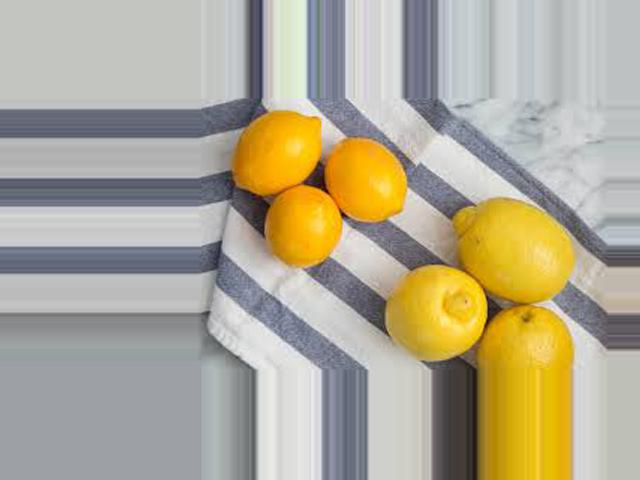lemon: (230, 109, 324, 193)
